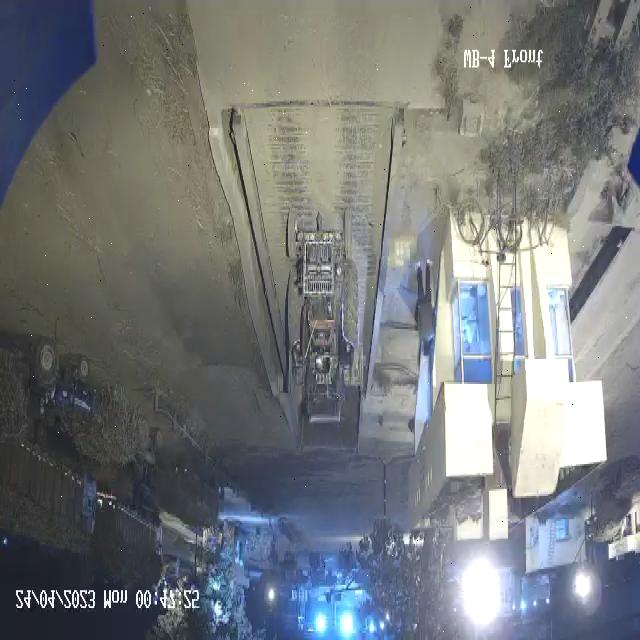Tratores - v5 YOLO V8L 2024-11-13: (282, 202, 360, 432), (24, 336, 100, 439)
